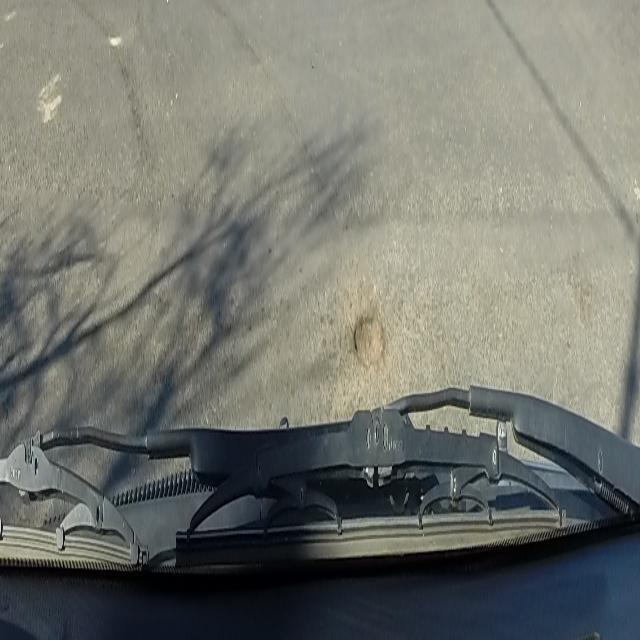pothole: (345, 308, 399, 372)
